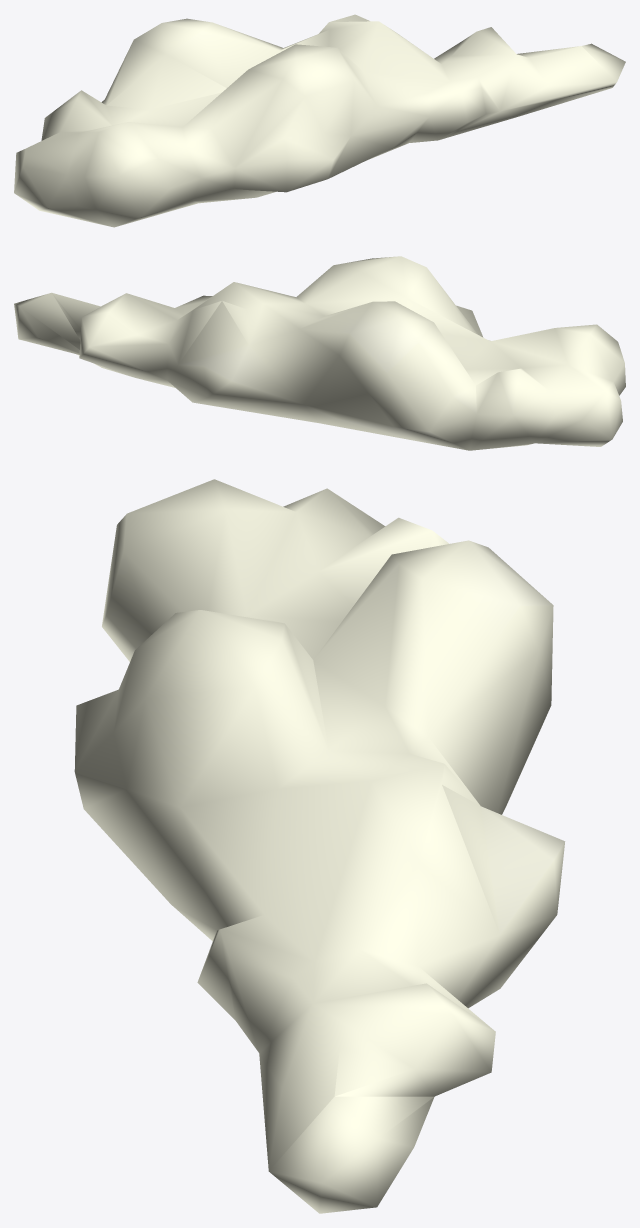
File: SM_Env_Cloud.FBX
The picture shows the model from 3 angles, top to bottom: view 1: azimuth 30°, elevation 25°; view 2: azimuth 150°, elevation 25°; view 3: azimuth 270°, elevation 25°; orthographic projection. The views are drawn at different scales.
Parts seen in each view (by area): view 1: SM_Env_Cloud; view 2: SM_Env_Cloud; view 3: SM_Env_Cloud.
Part boxes in pixels (box(x1,y1,x2,y2)): SM_Env_Cloud: box(14, 14, 625, 227); SM_Env_Cloud: box(14, 256, 625, 450); SM_Env_Cloud: box(74, 479, 565, 1213).
Bounding box in the file's own units: 7.29 × 1.71 × 2.57.
